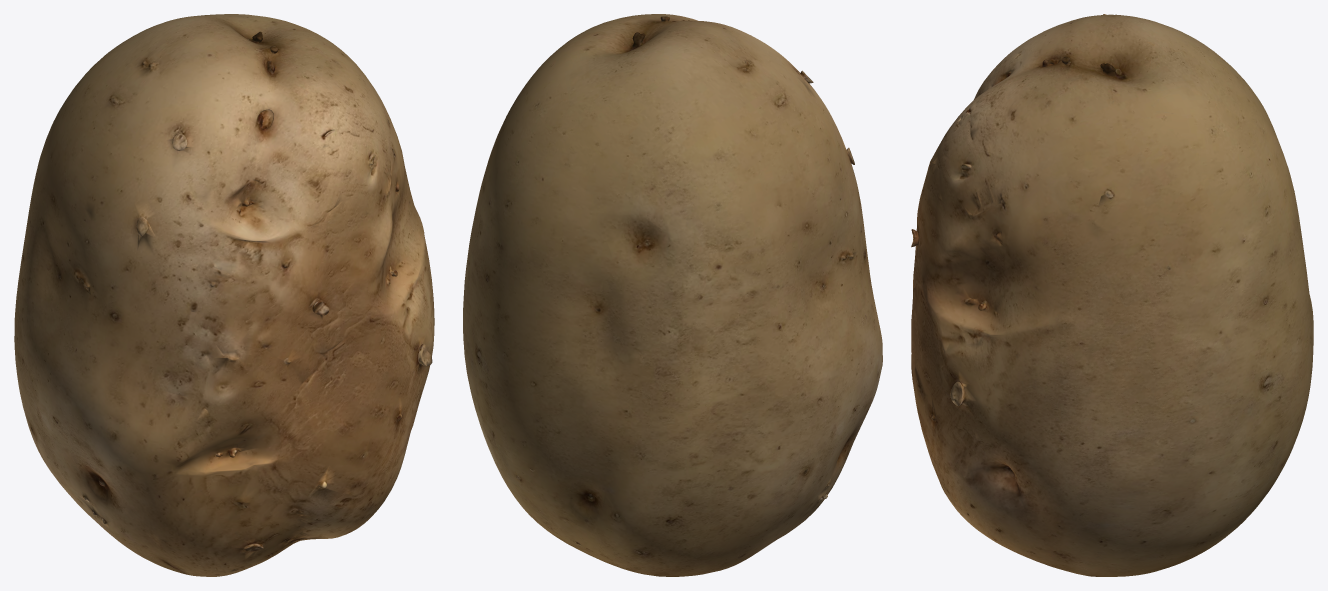
The model's file is potatoes.glb.
3 renders of one model, left to right at view 1: azimuth 30°, elevation 25°; view 2: azimuth 150°, elevation 25°; view 3: azimuth 270°, elevation 25°, orthographic.
Parts seen in each view (by area): view 1: node_0; view 2: node_0; view 3: node_0.
Boxes of the visible parts, x1=… form: node_0: x1=14, y1=14, x2=434, y2=576; node_0: x1=463, y1=14, x2=882, y2=576; node_0: x1=911, y1=14, x2=1313, y2=576.
Size of the model in its own units: 0.8568 by 1.17 by 0.8296.
1 material, 1 textured.
